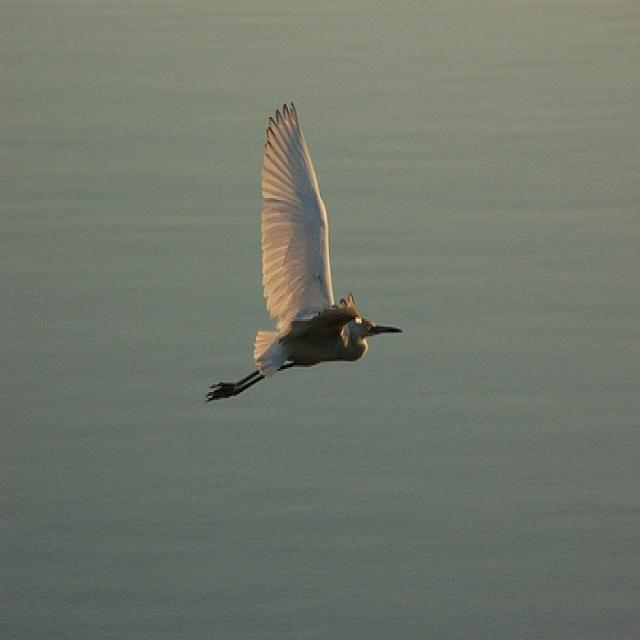bird: (208, 98, 400, 402)
